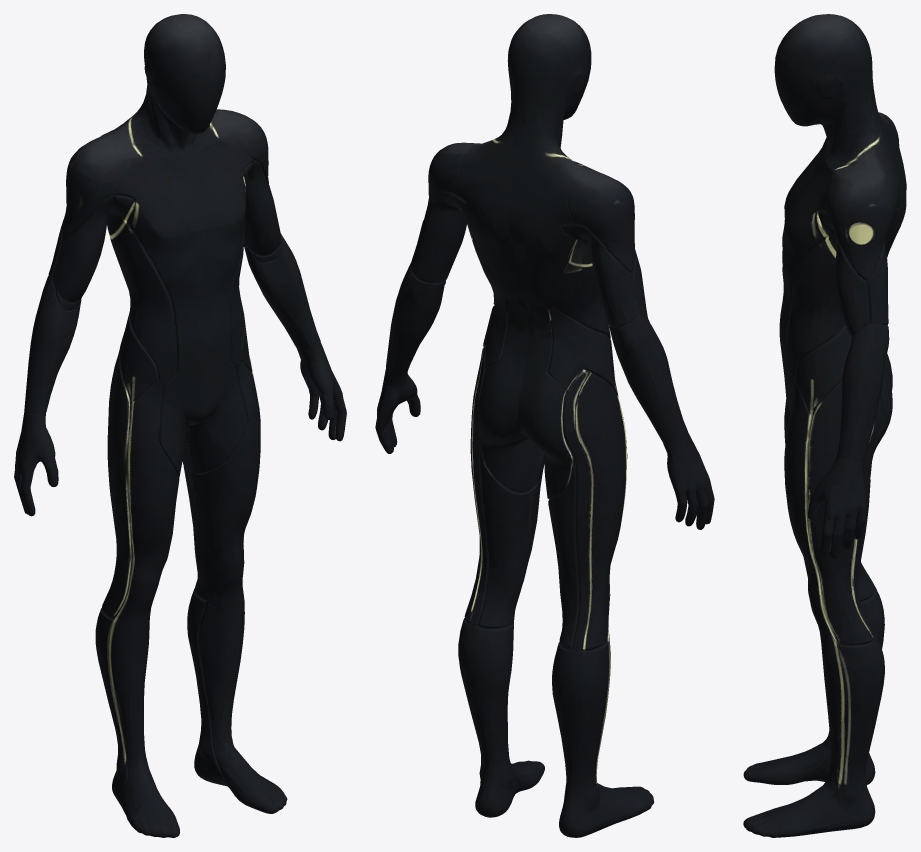
Rendered from person.glb.
3 renders of one model, left to right at view 1: azimuth 30°, elevation 25°; view 2: azimuth 150°, elevation 25°; view 3: azimuth 270°, elevation 25°, orthographic. The views are drawn at different scales.
Size of the model in its own units: 0.8284 by 1.9 by 0.3571.
Materials: 1 (1 with a texture image).
